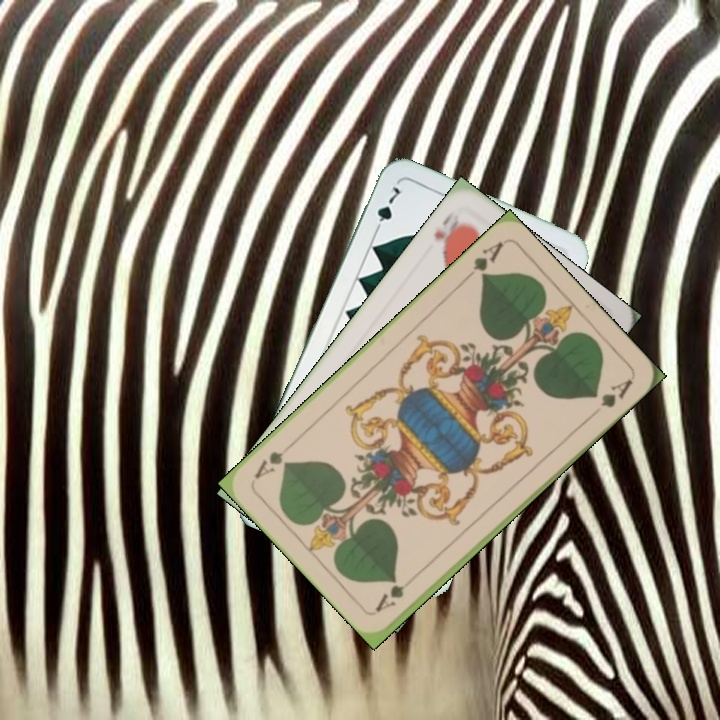G7: (370, 182, 403, 236)
GA: (459, 237, 506, 284), (370, 570, 419, 615)
HO: (429, 207, 467, 256)
